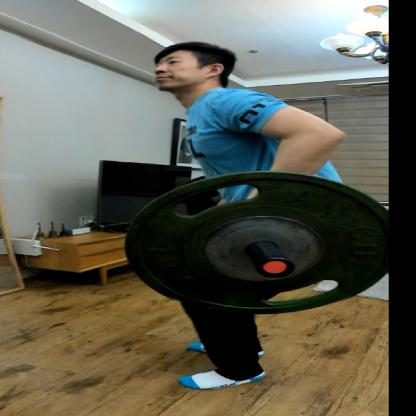Barbell: (114, 167, 396, 318)
